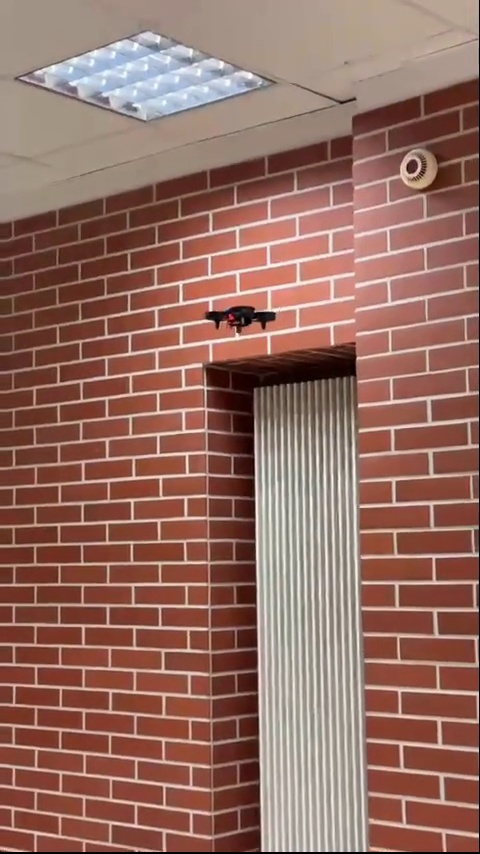drone: (198, 302, 278, 336)
